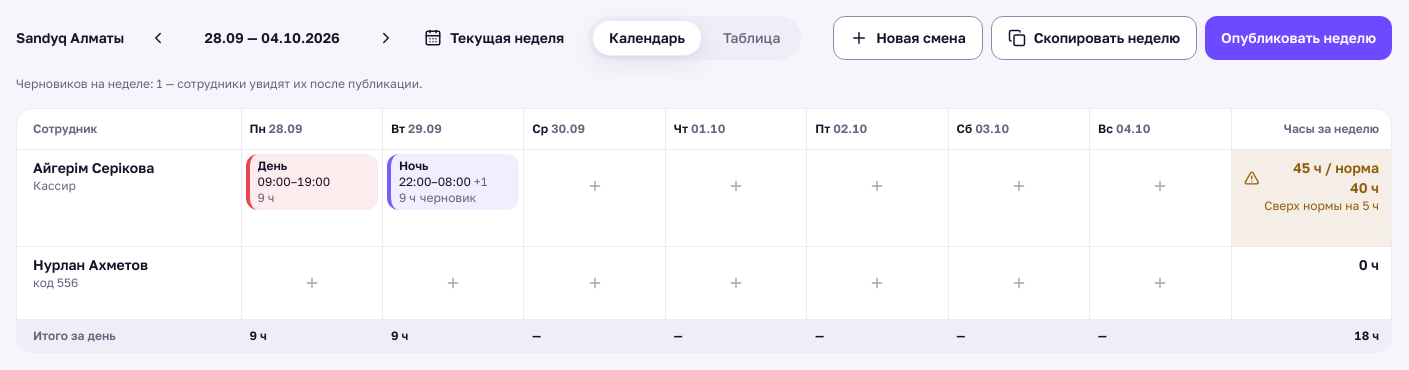
Test: «Расписание» week calendar › week navigation and the table view (hours in «ч»)
Step 1. Click the button named "Следующая неделя" → (386, 38), box [364,16,408,60]
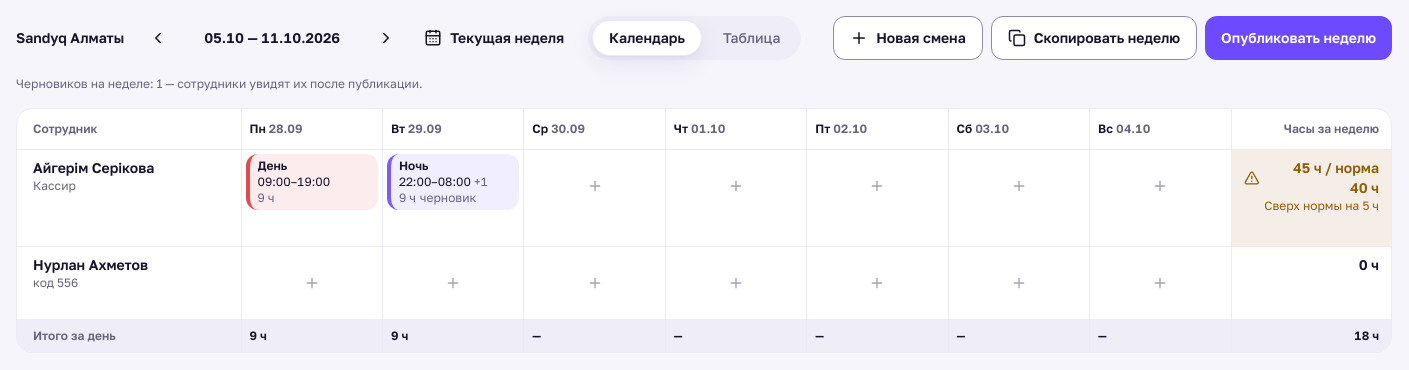
Step 2. Click the radio button labelled "Таблица" → (752, 38), box [706,20,797,56]
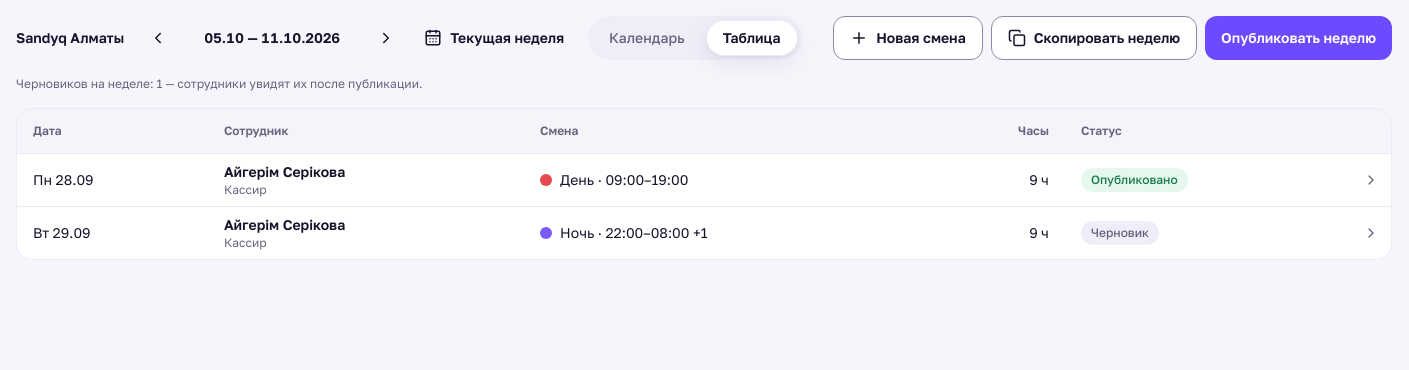
Expected: the text "Опубликовано" is shown, [1081,168,1188,192]
